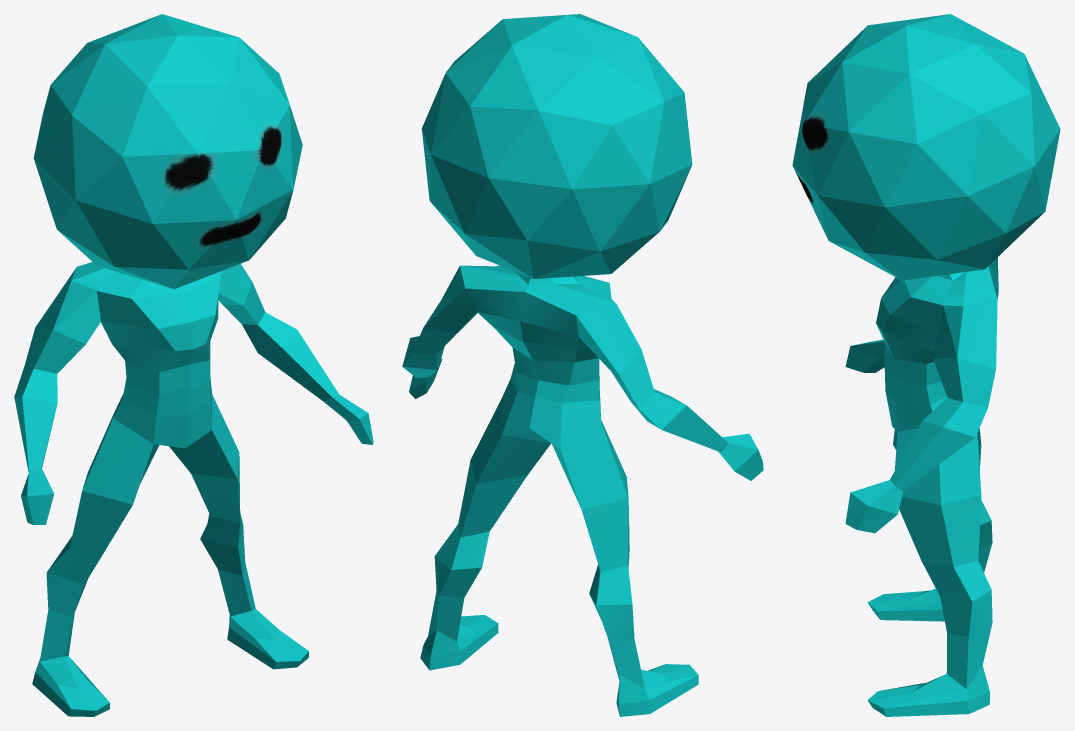
Rendered from sonce.gltf.
The picture shows the model from 3 angles, left to right: view 1: azimuth 30°, elevation 25°; view 2: azimuth 150°, elevation 25°; view 3: azimuth 270°, elevation 25°; orthographic projection. The views are drawn at different scales.
Visible parts, largest first — view 1: Icosphere; view 2: Icosphere; view 3: Icosphere.
Part boxes in pixels (<box>): Icosphere: <box>14,14,373,716</box>; Icosphere: <box>402,14,763,716</box>; Icosphere: <box>792,14,1060,716</box>.
Bounding box in the file's own units: 1.03 × 1.86 × 0.7126.
1 material, 1 textured.
